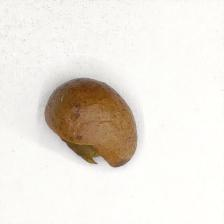NG: (55, 127, 119, 169)
